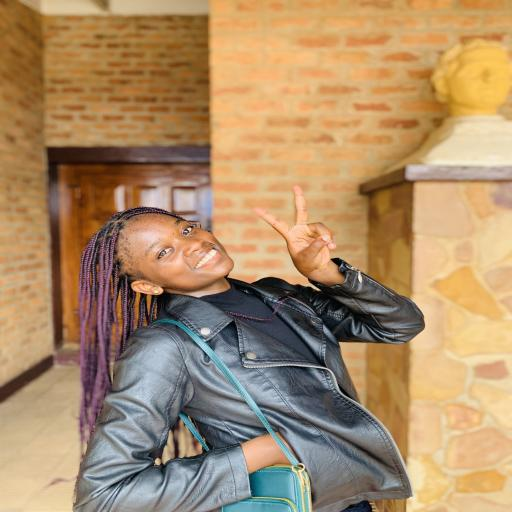LAURENE: (98, 219, 237, 307)
